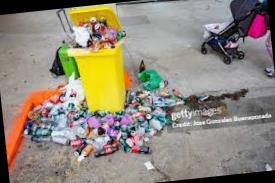trash: (16, 75, 90, 156), (61, 99, 146, 164), (122, 67, 182, 136), (59, 7, 124, 52), (180, 83, 214, 120), (50, 38, 80, 79), (134, 50, 149, 76)
trash_can_overflow: (19, 0, 176, 173)
